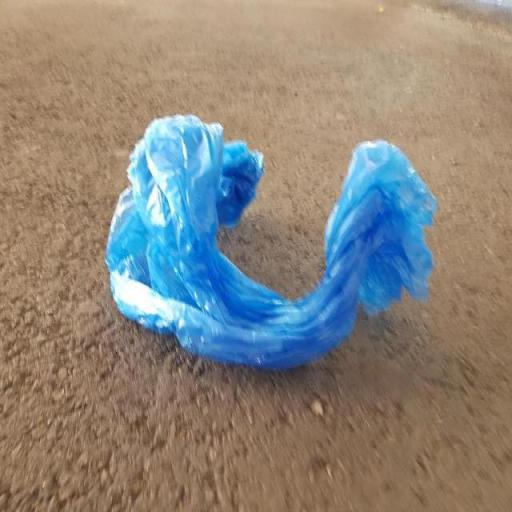plastic-bag: (102, 110, 438, 380)
